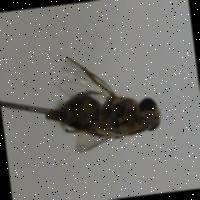Oriental-fruit-fly: (26, 38, 171, 162)
